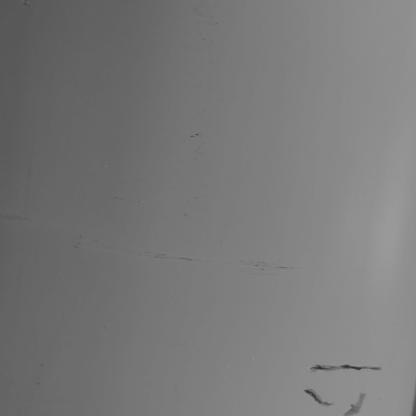fengxi: (306, 362, 384, 374), (341, 393, 368, 416), (302, 387, 334, 404)
